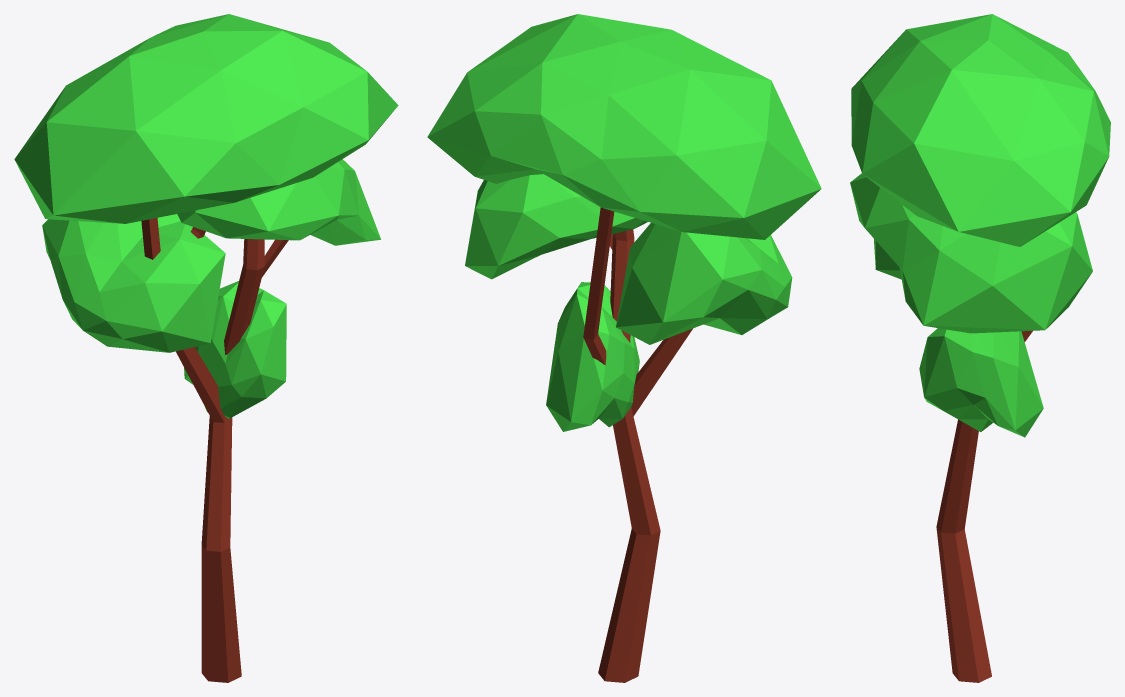
File: pohon 7.fbx
The picture shows the model from 3 angles, left to right: view 1: azimuth 30°, elevation 25°; view 2: azimuth 150°, elevation 25°; view 3: azimuth 270°, elevation 25°; orthographic projection.
Parts seen in each view (by area): view 1: Tree Type3 04 Model; view 2: Tree Type3 04 Model; view 3: Tree Type3 04 Model.
Boxes of the visible parts, box(x1,y1,x2,y2) form: Tree Type3 04 Model: box(14, 14, 398, 682); Tree Type3 04 Model: box(427, 14, 821, 682); Tree Type3 04 Model: box(850, 14, 1110, 682).
Size of the model in its own units: 568 by 977 by 367.
